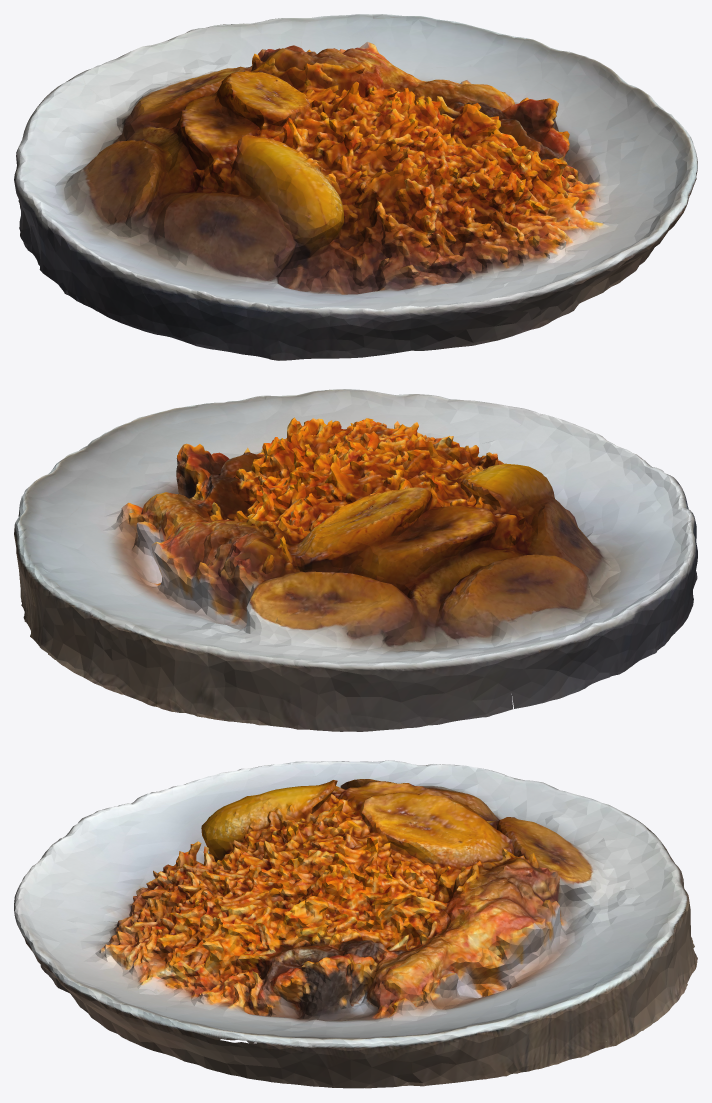
The model's file is jollof-rice.glb.
3 views of the same model, one above another, from view 1: azimuth 30°, elevation 25°; view 2: azimuth 150°, elevation 25°; view 3: azimuth 270°, elevation 25° (orthographic).
Bounding box in the file's own units: 1.38 × 0.2821 × 1.41.
Materials: 1 (1 with a texture image).
